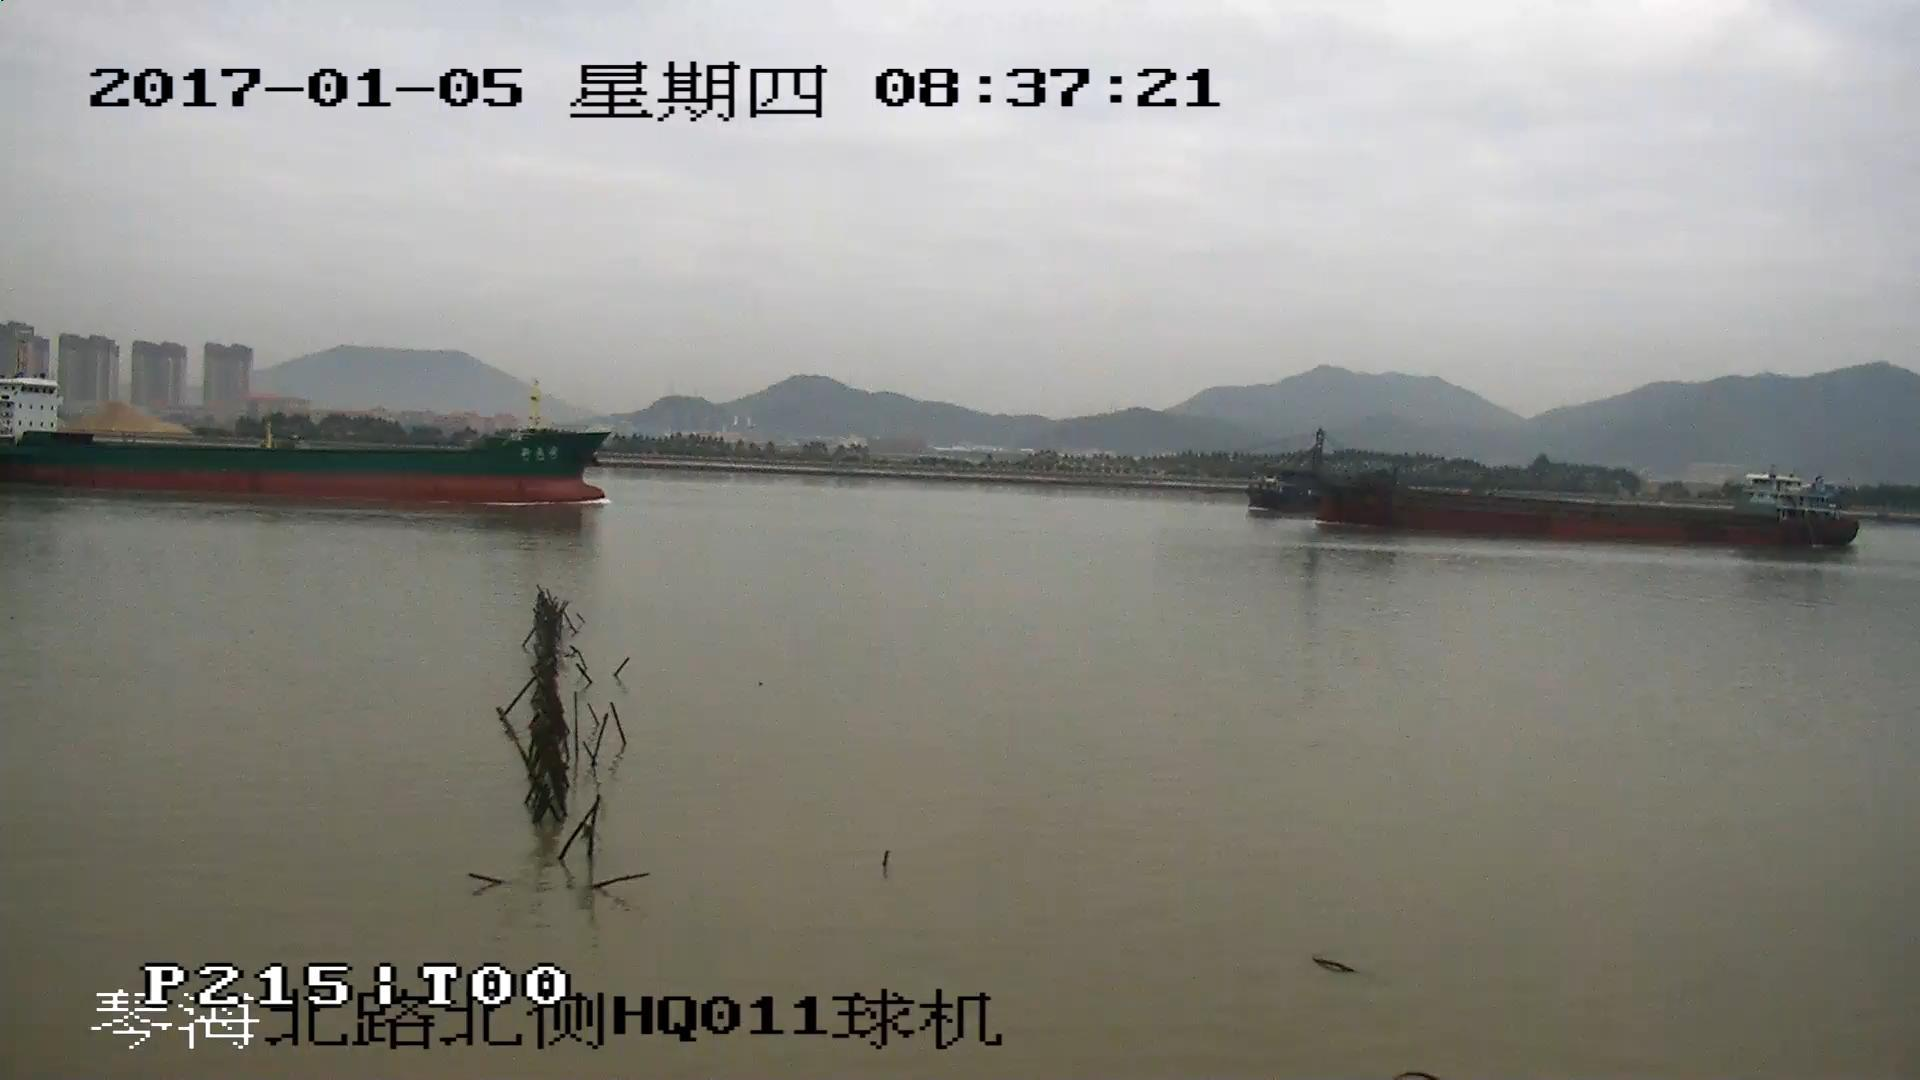Ship: (3, 335, 607, 505), (1251, 438, 1859, 554)
